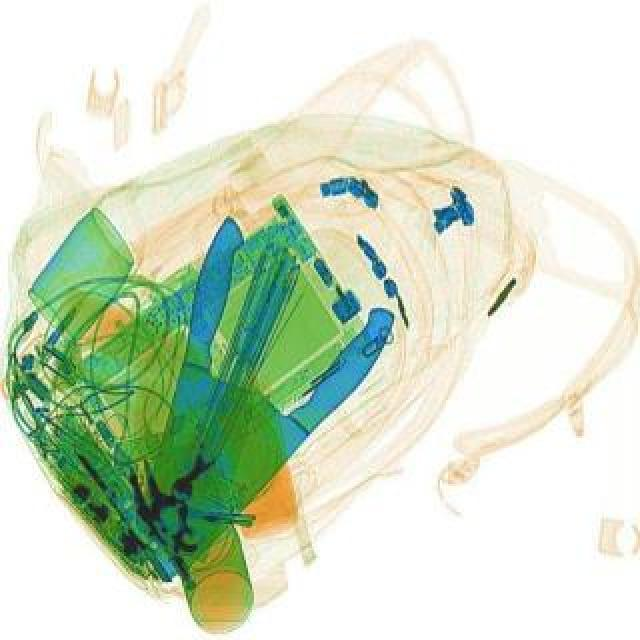knife: (122, 270, 408, 574), (124, 210, 304, 566)
